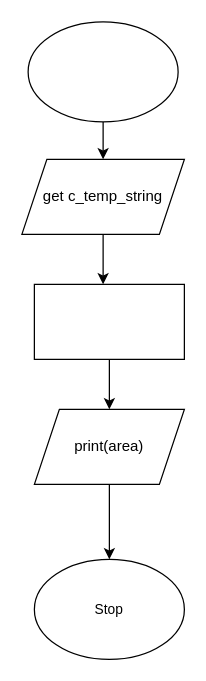
This 206x681 diagram has some shape labels left out. The shapes that lost their labels are listed below. From the top down, each one's centre as x and y in pixels, then its label:
At pixel 102 71: "calculate_area(base, height)".
At pixel 108 321: "area = (base * height) / 2".
